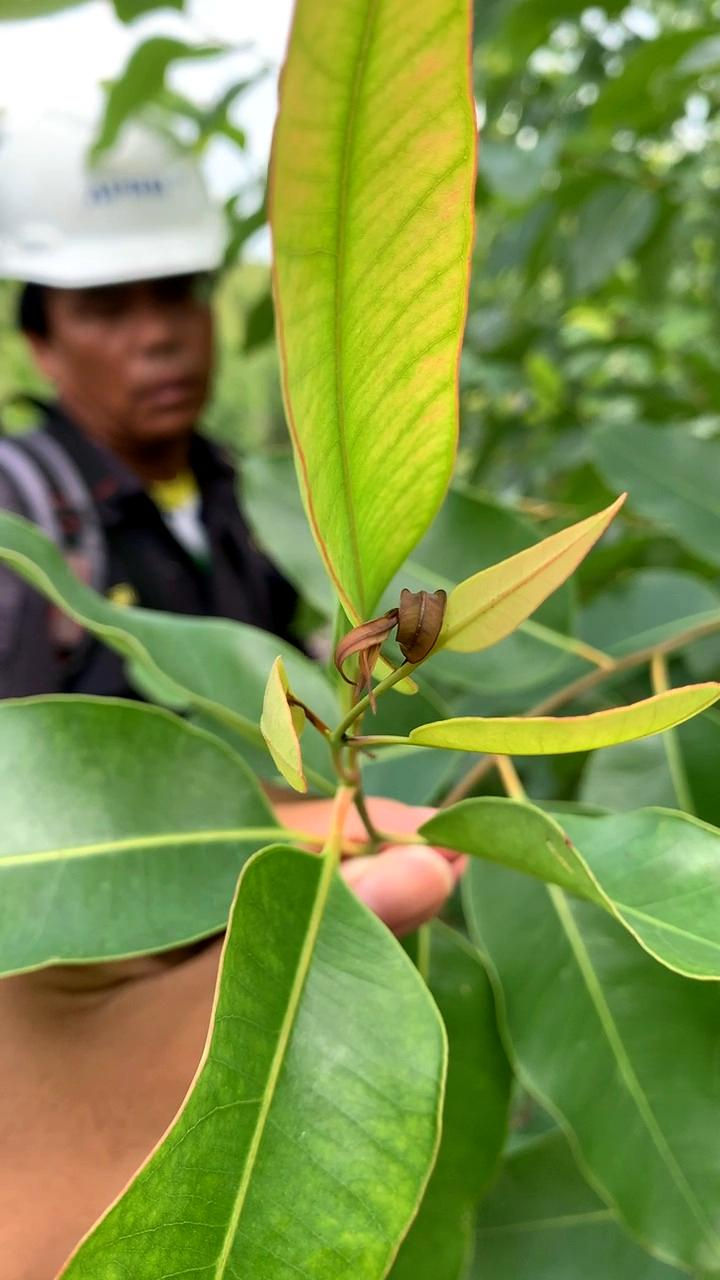Helopeltis-Withered Sprout: (327, 583, 455, 694)
